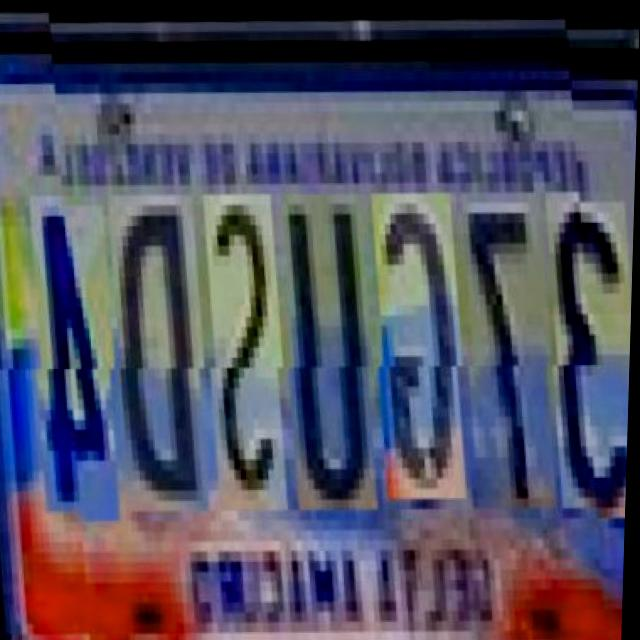3: (529, 187, 636, 504)
4: (14, 202, 121, 519)
7: (445, 189, 557, 507)
d: (92, 192, 209, 510)
g: (356, 188, 465, 497)
s: (187, 192, 288, 509)
u: (266, 190, 377, 508)
